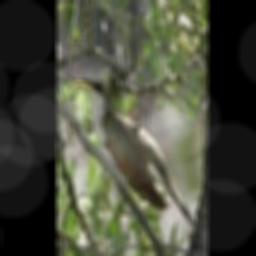Cuckoo: (74, 77, 196, 229)
